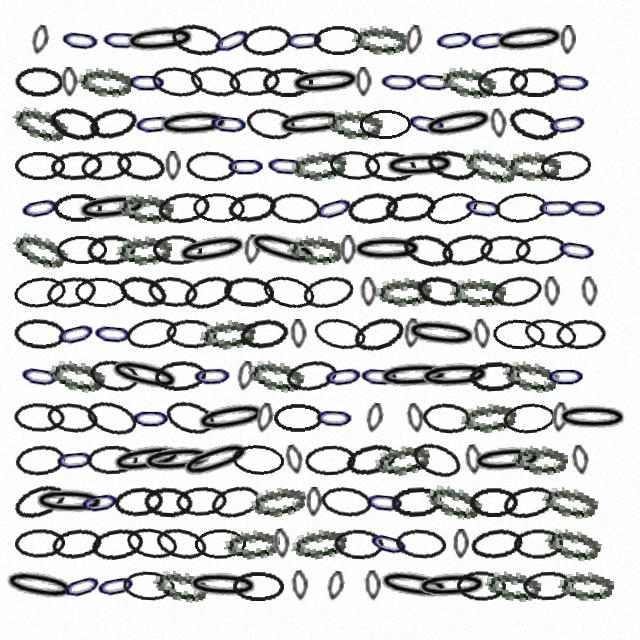chain: (176, 434, 256, 486), (243, 225, 323, 274), (105, 353, 184, 398), (419, 102, 498, 145), (173, 229, 252, 271), (192, 397, 271, 439), (0, 565, 79, 607), (108, 439, 186, 480), (375, 565, 453, 606), (74, 189, 151, 227), (403, 315, 480, 353), (9, 227, 71, 273), (491, 21, 568, 58), (274, 105, 351, 142), (9, 101, 71, 146), (122, 22, 199, 58), (287, 64, 364, 100), (139, 442, 216, 478), (469, 442, 546, 478), (10, 479, 69, 525), (408, 437, 466, 483), (423, 480, 485, 523), (460, 144, 521, 187), (156, 107, 232, 141), (376, 359, 452, 393), (417, 359, 493, 393), (414, 569, 490, 603), (83, 396, 141, 440), (382, 149, 458, 182), (180, 270, 237, 314), (350, 312, 407, 356), (185, 569, 261, 602), (46, 102, 103, 145), (505, 102, 562, 145), (162, 396, 219, 439), (423, 187, 481, 229), (260, 271, 318, 313), (372, 440, 432, 480), (32, 486, 107, 518), (543, 524, 603, 564), (400, 229, 456, 271), (115, 271, 171, 313), (47, 356, 107, 395), (246, 356, 306, 395), (248, 482, 308, 521), (289, 524, 349, 563), (151, 566, 211, 605), (350, 234, 425, 265), (208, 481, 264, 522), (438, 63, 498, 101), (311, 314, 368, 354), (501, 357, 561, 395), (500, 482, 557, 522), (540, 483, 600, 521), (153, 524, 210, 564), (86, 103, 141, 144), (555, 403, 630, 433), (300, 272, 356, 312), (343, 440, 399, 480), (207, 18, 257, 62), (169, 20, 225, 59), (187, 62, 243, 101), (424, 146, 480, 185), (439, 230, 495, 269), (489, 272, 545, 311), (124, 524, 180, 563), (289, 147, 348, 184), (459, 399, 518, 436), (243, 104, 298, 143), (124, 314, 179, 353), (87, 356, 142, 395), (522, 315, 578, 353), (89, 525, 145, 563), (198, 316, 257, 352), (414, 272, 468, 311), (345, 189, 400, 227), (284, 357, 339, 395), (114, 147, 168, 185), (44, 273, 98, 311), (156, 189, 211, 226), (484, 568, 542, 603), (12, 274, 67, 310), (319, 484, 374, 520), (469, 526, 524, 562), (115, 233, 173, 267), (223, 527, 281, 561), (226, 189, 279, 226), (240, 22, 294, 58), (150, 64, 204, 100), (79, 148, 133, 184), (45, 400, 99, 436), (50, 526, 104, 562), (310, 188, 358, 228), (58, 566, 106, 606), (238, 316, 291, 352), (383, 190, 437, 225), (146, 274, 200, 309), (77, 65, 134, 98), (375, 275, 432, 308), (52, 314, 100, 353), (365, 524, 413, 563), (502, 401, 557, 435), (49, 149, 103, 183), (363, 149, 417, 183), (326, 108, 383, 140), (117, 192, 174, 224), (268, 191, 321, 225), (514, 233, 567, 267), (421, 401, 474, 435), (394, 527, 447, 561), (328, 149, 382, 182), (539, 149, 593, 182), (494, 191, 548, 224), (153, 359, 207, 392), (231, 443, 285, 476), (14, 443, 66, 477), (113, 485, 165, 519), (287, 234, 344, 265), (228, 65, 281, 98), (476, 65, 529, 98), (222, 275, 275, 308), (13, 317, 66, 350), (352, 24, 408, 55), (505, 150, 561, 181), (512, 444, 568, 475), (558, 570, 614, 601), (175, 485, 227, 518), (390, 485, 442, 518), (404, 105, 450, 142), (17, 189, 63, 226), (93, 567, 139, 604), (74, 276, 127, 308), (492, 318, 545, 350), (122, 570, 175, 602), (522, 570, 575, 602), (450, 277, 506, 307), (185, 150, 237, 182), (479, 234, 531, 266), (165, 318, 217, 350), (468, 360, 520, 392), (86, 444, 138, 476), (304, 444, 356, 476), (333, 528, 385, 560), (554, 232, 600, 268), (17, 358, 63, 394), (77, 484, 123, 520), (192, 192, 245, 223), (13, 402, 66, 433), (555, 318, 606, 350), (143, 486, 194, 518), (194, 528, 246, 559), (14, 66, 65, 97), (86, 234, 137, 265), (14, 528, 65, 559), (513, 528, 564, 559), (456, 570, 507, 601), (432, 22, 477, 57), (545, 106, 590, 141), (461, 190, 506, 225), (359, 109, 411, 139), (56, 235, 108, 265), (232, 571, 284, 601), (152, 234, 202, 265), (58, 23, 103, 57), (313, 25, 364, 55), (467, 23, 512, 57), (262, 67, 313, 97), (509, 67, 560, 97), (14, 151, 65, 181), (321, 359, 366, 393), (273, 403, 324, 433), (53, 193, 103, 223), (469, 487, 519, 517), (363, 485, 407, 519), (412, 65, 456, 98), (132, 107, 176, 140), (207, 107, 251, 140), (264, 149, 308, 182), (91, 317, 135, 350), (53, 443, 97, 476), (283, 24, 326, 56), (550, 66, 593, 98), (358, 360, 401, 392), (100, 24, 143, 55), (378, 66, 421, 97), (191, 360, 234, 391), (313, 402, 356, 433), (536, 192, 578, 223), (567, 192, 609, 223), (126, 67, 168, 97), (225, 151, 267, 181), (545, 361, 587, 391), (130, 403, 172, 433), (283, 443, 306, 476), (29, 24, 51, 56), (403, 24, 424, 56), (235, 360, 256, 392), (254, 402, 275, 434), (364, 402, 385, 434), (405, 402, 426, 434), (570, 444, 591, 476), (325, 570, 346, 602), (472, 318, 492, 350), (489, 108, 508, 139), (580, 276, 599, 307), (464, 444, 483, 475), (272, 528, 291, 559), (243, 234, 261, 265), (543, 276, 561, 307), (403, 318, 421, 349), (551, 402, 569, 433), (291, 570, 309, 601), (364, 570, 382, 601), (61, 67, 78, 97), (355, 67, 372, 97), (360, 277, 377, 307), (290, 319, 307, 349), (560, 25, 576, 55), (165, 151, 181, 181), (340, 235, 356, 265), (306, 487, 322, 517), (453, 529, 469, 559)
